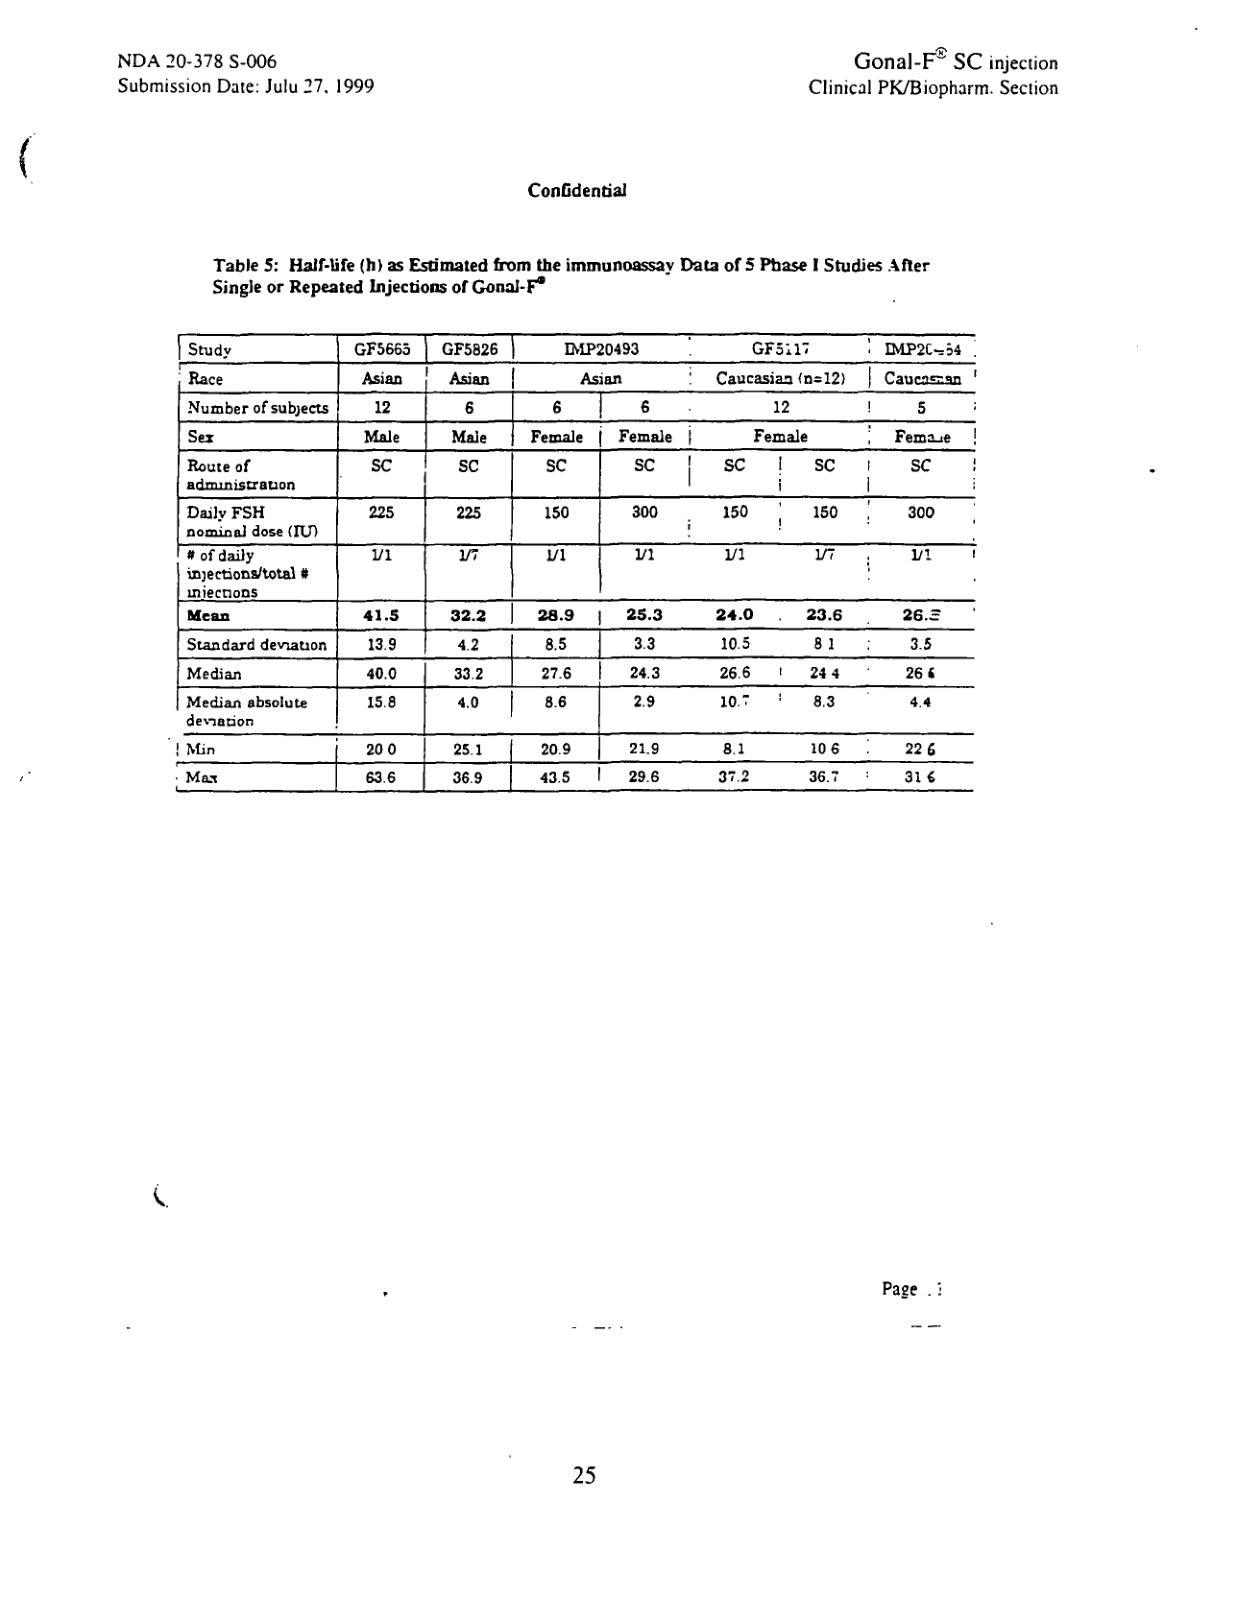partial_lined_merged_cells: (175, 332, 976, 795)
